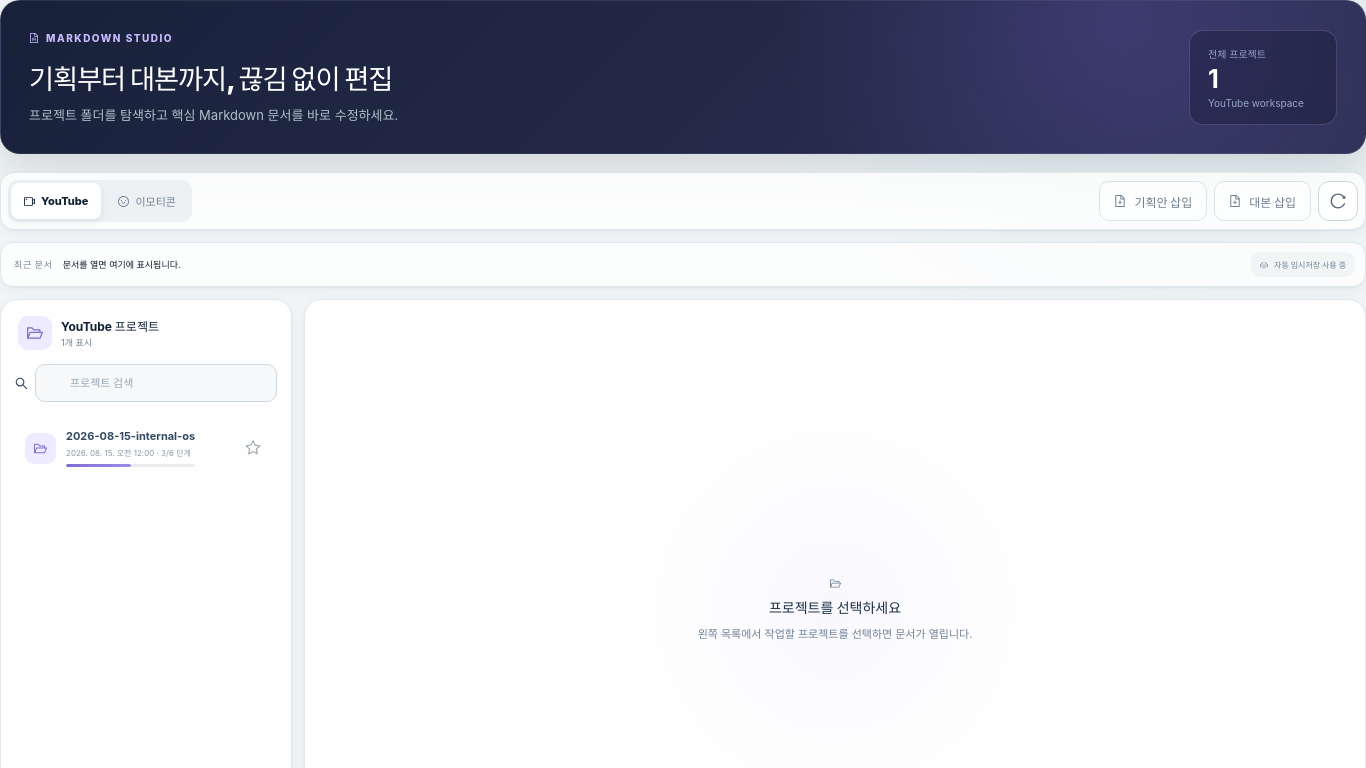
protects an unsaved draft before switching documents
The width and height of the screenshot is (1366, 768).
Click the button with aria-label "프로젝트 2026-08-15-internal-os 열기" at {"x": 145, "y": 448}, box [15,414,275,482]
(page scrolled)
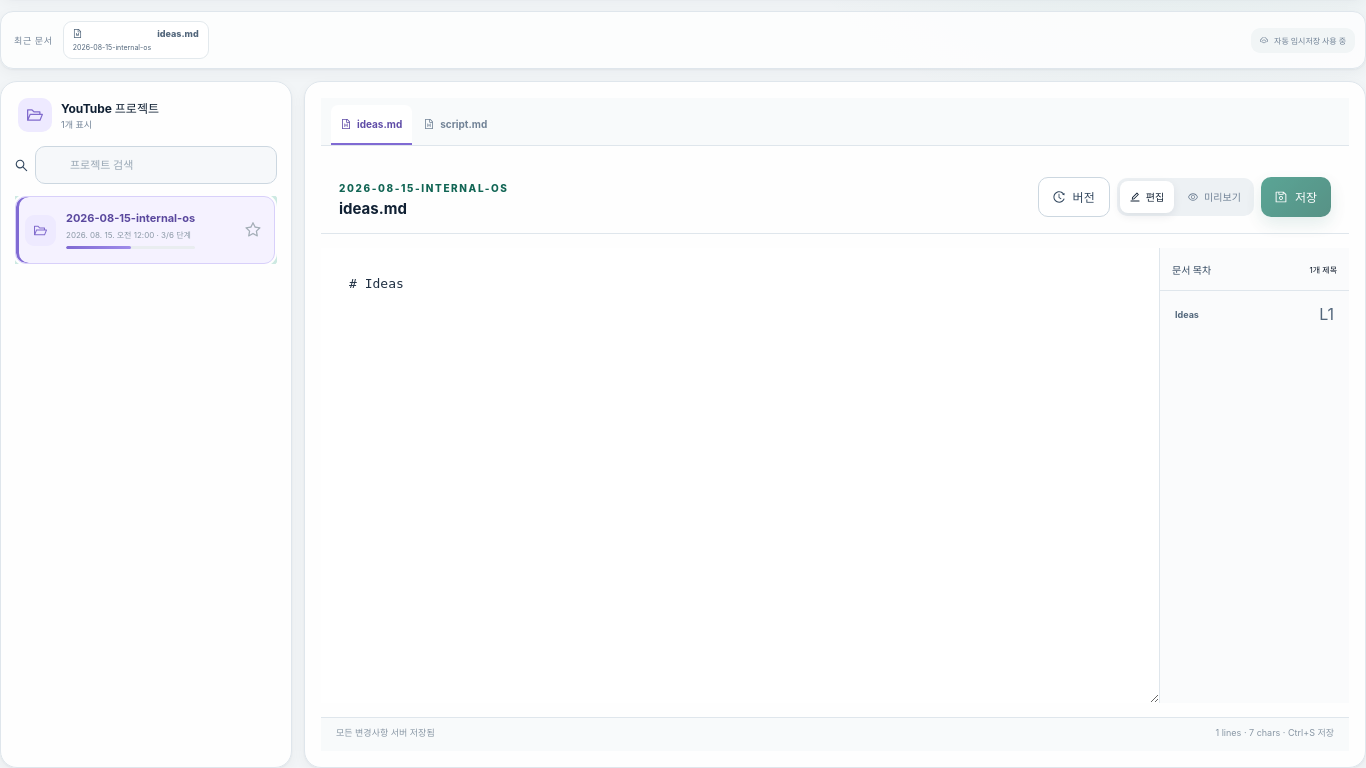
Replace the text in the text box named "Markdown 편집기" with "# Unsaved draft" at {"x": 740, "y": 476}, box [321,248,1159,703]
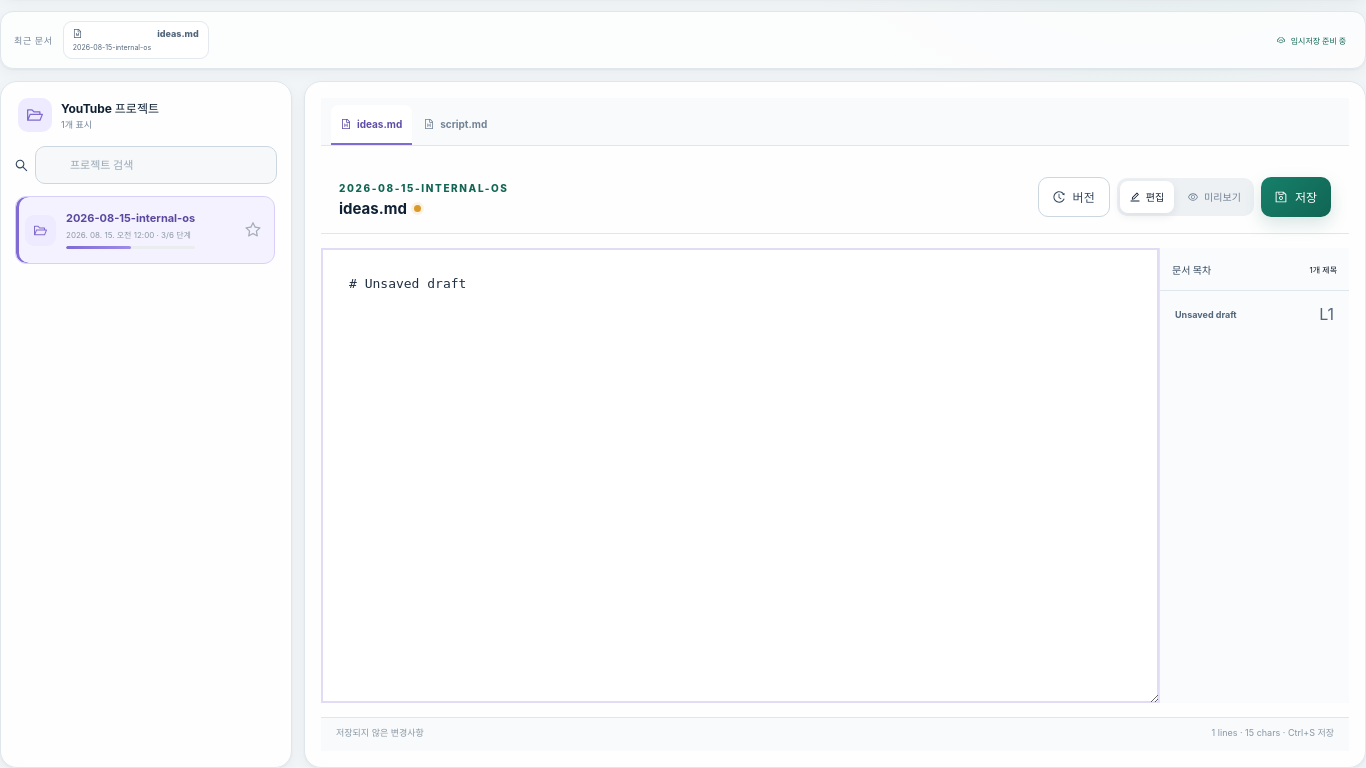
Click the tab "script.md" at {"x": 456, "y": 125}, box [414,105,497,145]
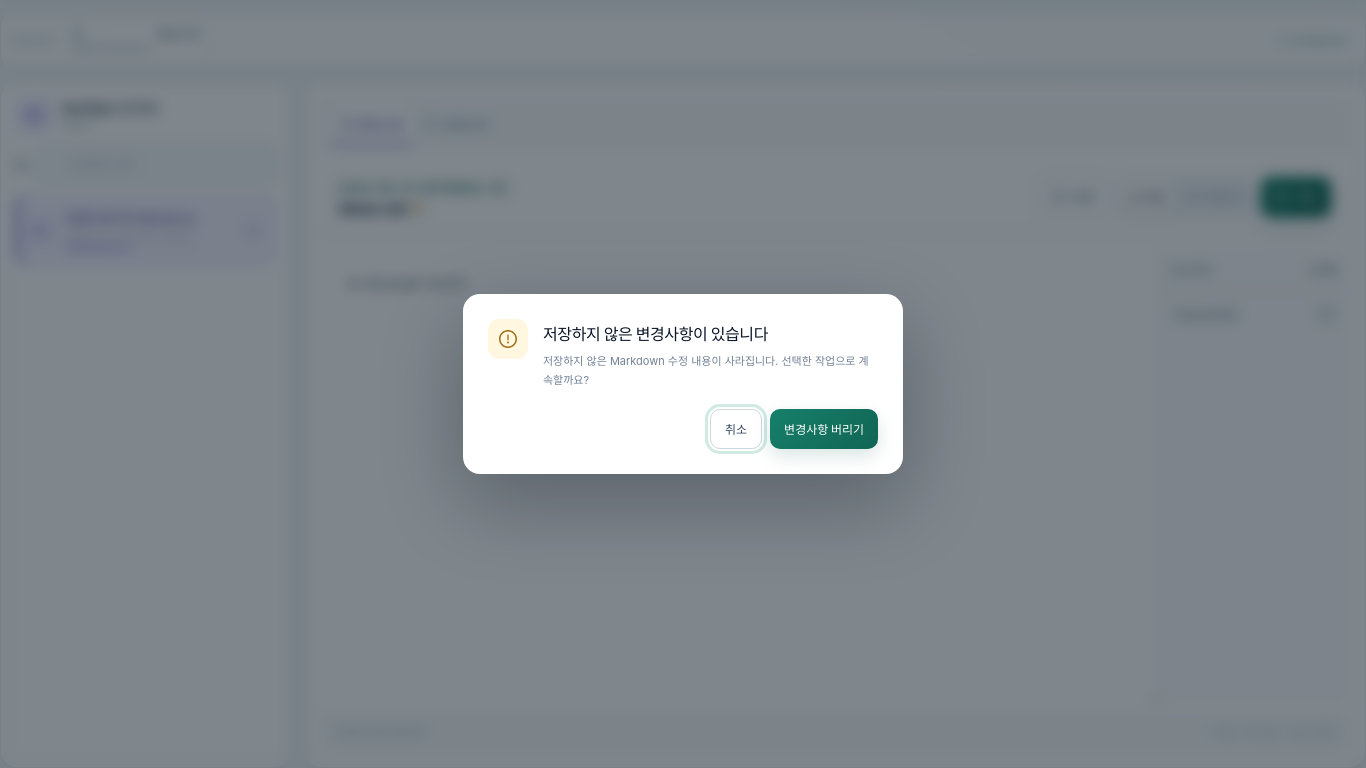
Check: the dialog "저장하지 않은 변경사항이 있습니다" is shown, box [463,294,903,474]
Click the button "변경사항 버리기" at {"x": 824, "y": 429}, box [770,409,878,449]
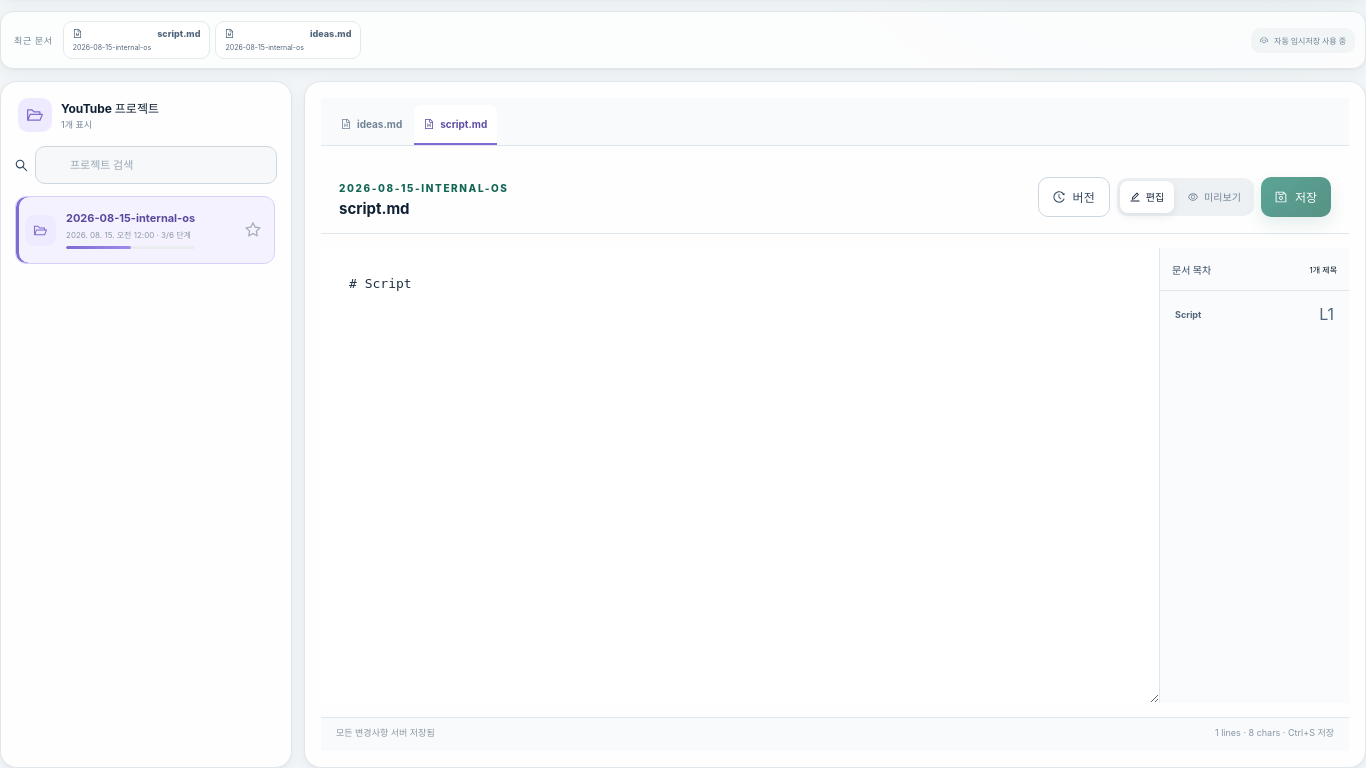
Check: the text box named "Markdown 편집기" holds "# Script", box [321,248,1159,703]
